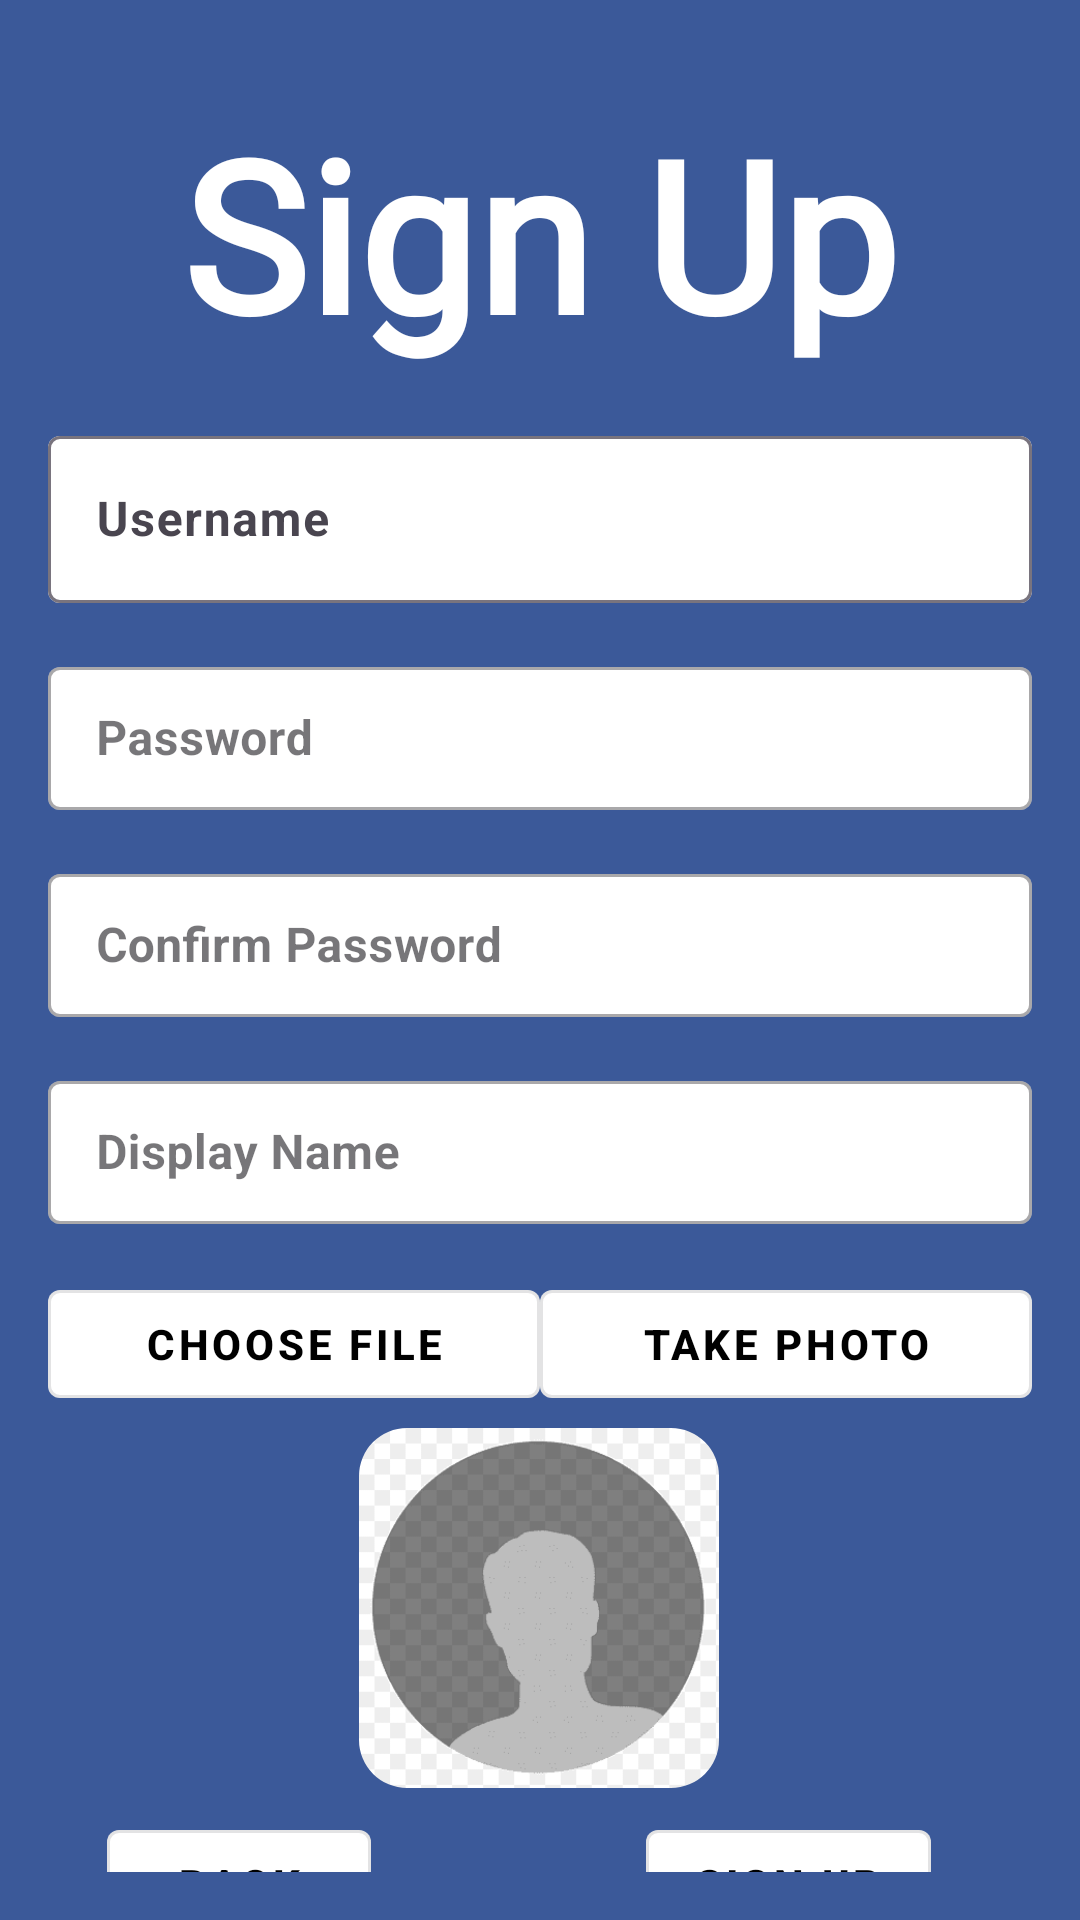

Icons on this 1080x1920 Android screen, each with the point to tap as [x,y]:
defaultpic: [539,1608]
